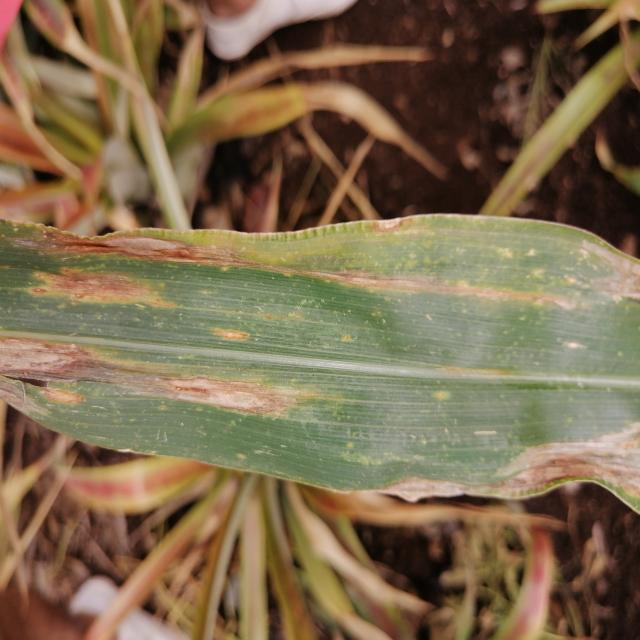Corn_Leaf_Blight: (0, 200, 640, 519)
